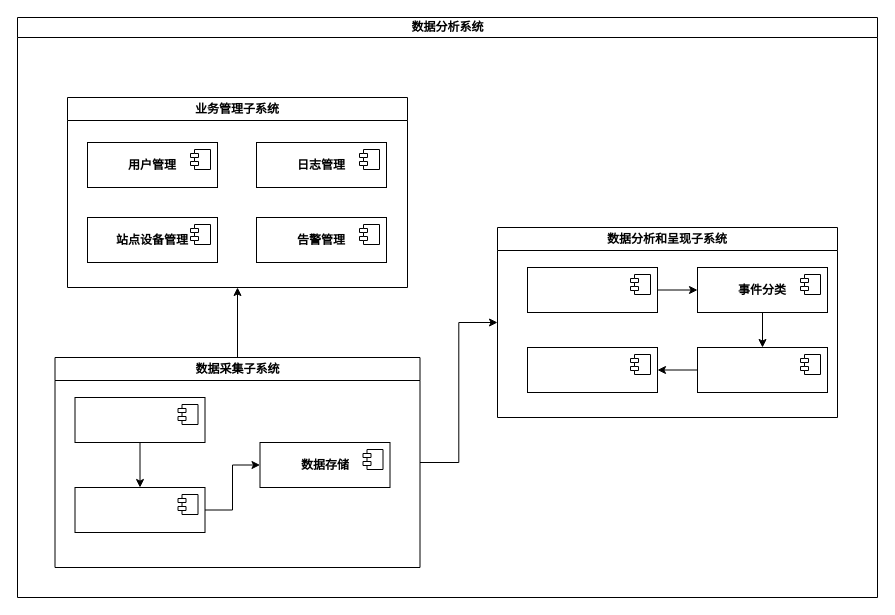
This 895x615 diagram has some shape labels left out. Each missing label, with the centre of its shape:
事件存储: point 762,369
事件检测: point 592,289
数据呈现: point 592,369
数据接收: point 139,419
数据解析: point 139,509
